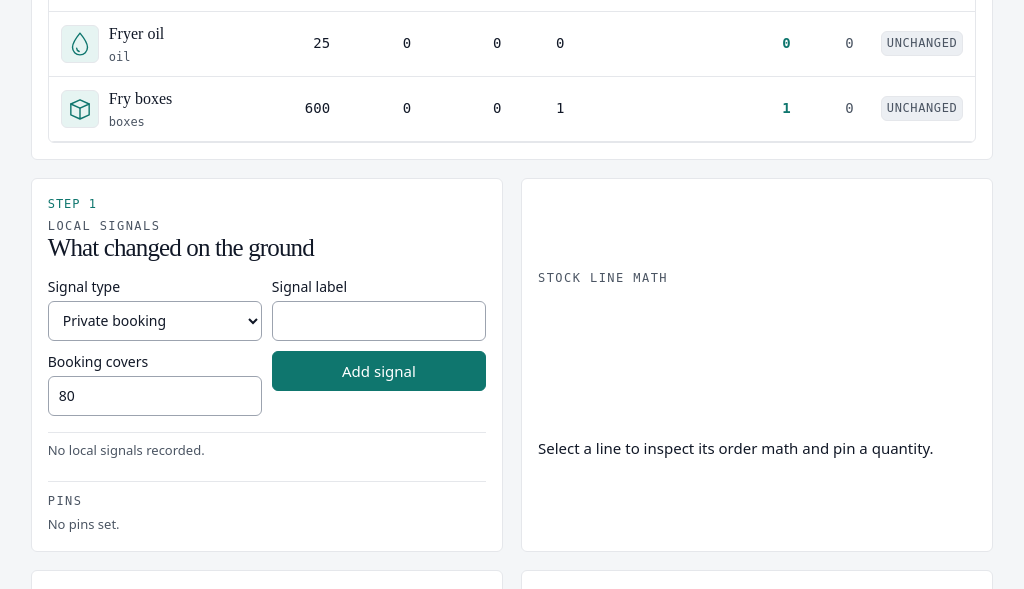
Test: order review UI › shows an inline error when a signal label is empty
(page scrolled)
Click the button "Add signal": (379,371) [272,351,486,391]
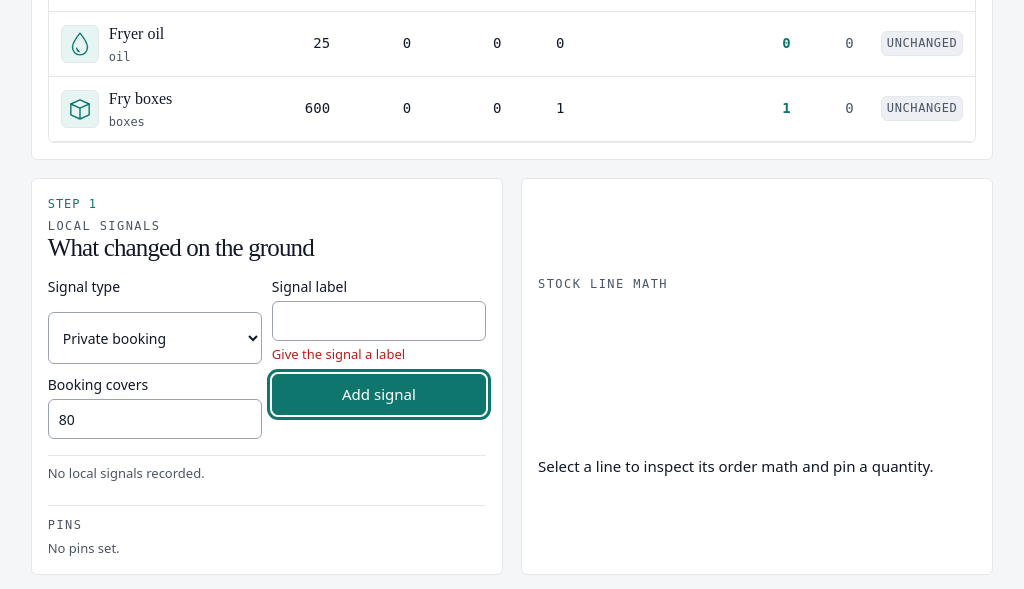
Expected: the text "Give the signal a label" is shown, [272,345,405,363]
In the field labelled "Signal label": (379,321) [272,301,486,341], type "Private booking"
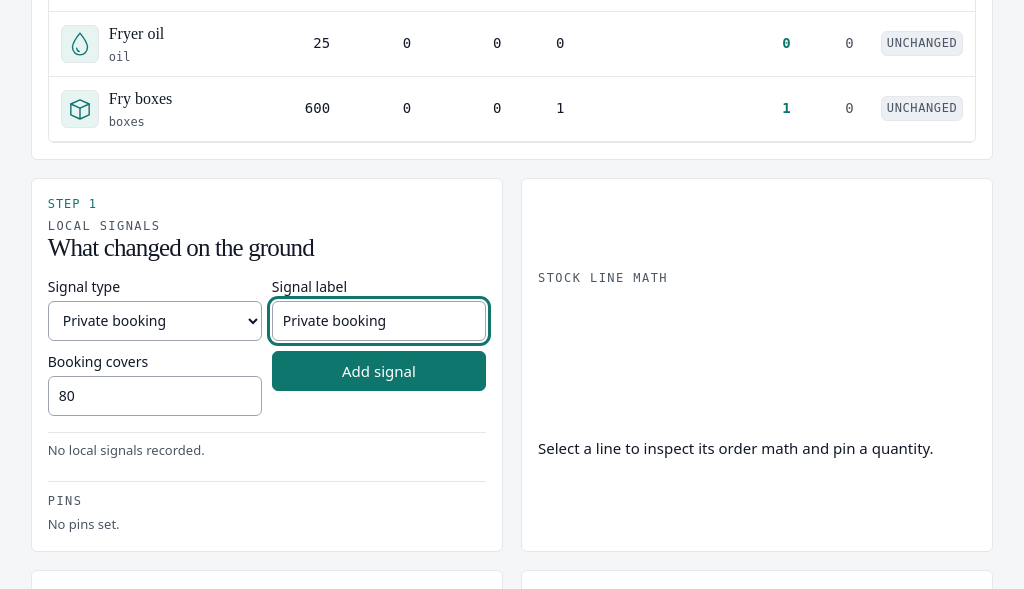
Expected: the text "Give the signal a label" is gone
